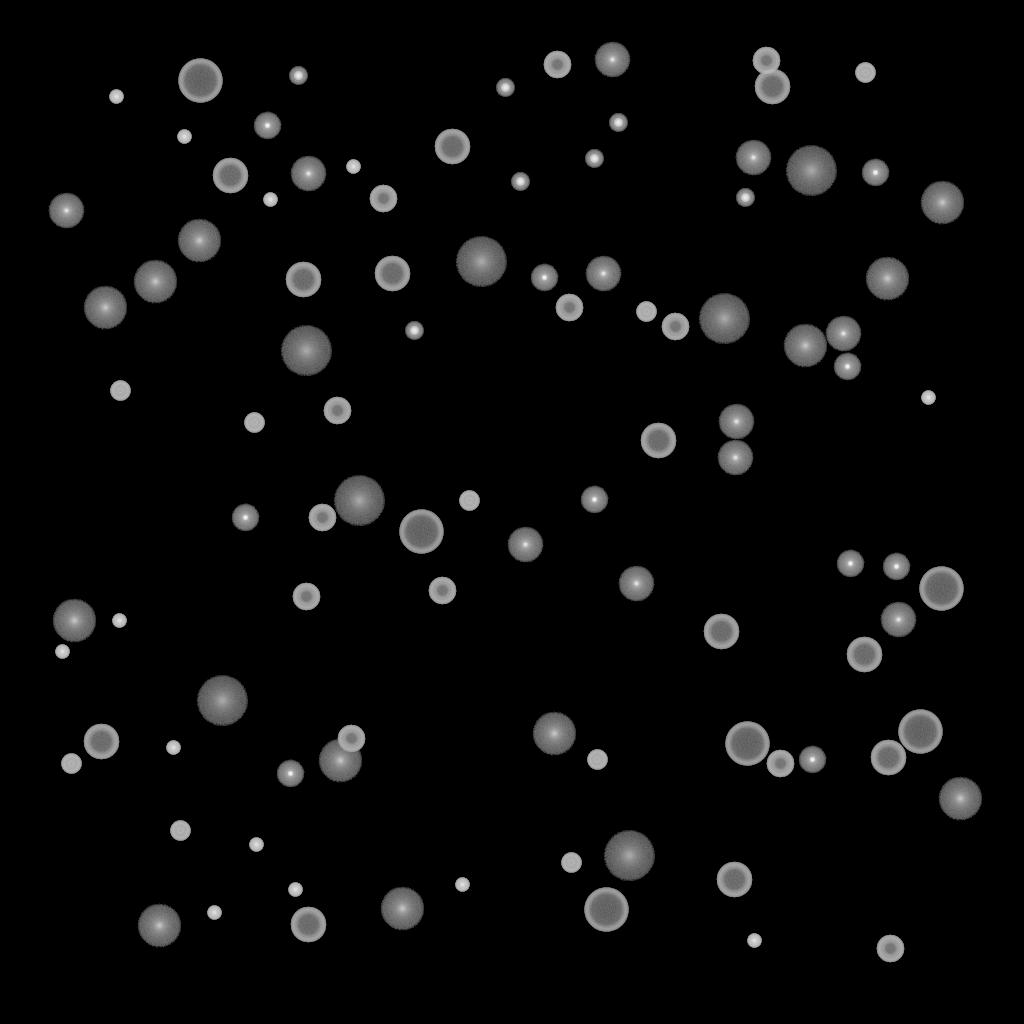depth:-10: (231, 504, 259, 532), (798, 746, 826, 774), (882, 553, 910, 581), (833, 353, 861, 381), (530, 264, 558, 292), (276, 760, 304, 788), (861, 159, 889, 187), (836, 550, 864, 578), (580, 486, 608, 514), (253, 112, 281, 140)
depth:-20: (736, 189, 754, 207), (511, 173, 529, 191), (609, 114, 627, 132), (289, 67, 307, 85), (405, 322, 423, 340), (496, 79, 514, 97), (585, 150, 603, 168)
depth:-30: (249, 838, 263, 852), (112, 614, 126, 628), (109, 90, 123, 104), (55, 645, 69, 659), (455, 878, 469, 892), (207, 906, 221, 920), (346, 160, 360, 174), (921, 391, 935, 405), (166, 741, 180, 755), (177, 130, 191, 144), (288, 883, 302, 897), (747, 934, 761, 948), (263, 193, 277, 207)
depth:-40: (587, 750, 607, 770), (855, 63, 875, 83), (459, 491, 479, 511), (244, 413, 264, 433), (636, 302, 656, 322), (61, 754, 81, 774), (110, 381, 130, 401), (170, 821, 190, 841), (561, 853, 581, 873)
depth:-50: (428, 577, 456, 605), (876, 935, 904, 963), (292, 583, 320, 611), (323, 397, 351, 425), (337, 725, 365, 753), (555, 294, 583, 322), (543, 51, 571, 79), (752, 47, 780, 75), (369, 185, 397, 213), (766, 750, 794, 778), (661, 313, 689, 341), (308, 504, 336, 532)
depth:-60: (703, 614, 739, 650), (754, 69, 790, 105), (434, 129, 470, 165), (870, 740, 906, 776), (846, 637, 882, 673), (212, 158, 248, 194), (290, 907, 326, 943), (374, 256, 410, 292), (83, 724, 119, 760), (716, 862, 752, 898), (640, 423, 676, 459), (285, 262, 321, 298)
depth:-70: (584, 888, 628, 932), (919, 567, 963, 611), (898, 710, 942, 754), (399, 510, 443, 554), (178, 59, 222, 103), (725, 722, 769, 766)
depth:0: (48, 193, 84, 229), (717, 440, 753, 476), (880, 602, 916, 638), (735, 140, 771, 176), (618, 566, 654, 602), (585, 256, 621, 292), (507, 527, 543, 563), (290, 156, 326, 192), (825, 316, 861, 352), (718, 404, 754, 440), (594, 42, 630, 78)
depth:10: (318, 739, 362, 783), (532, 712, 576, 756), (380, 887, 424, 931), (783, 324, 827, 368), (133, 260, 177, 304), (177, 219, 221, 263), (83, 286, 127, 330), (865, 257, 909, 301), (52, 599, 96, 643), (137, 904, 181, 948), (920, 181, 964, 225), (938, 777, 982, 821)
depth:20: (455, 237, 507, 287), (196, 676, 248, 726), (280, 326, 332, 376), (698, 294, 750, 344), (785, 146, 837, 196), (603, 831, 655, 881), (333, 476, 385, 526)
